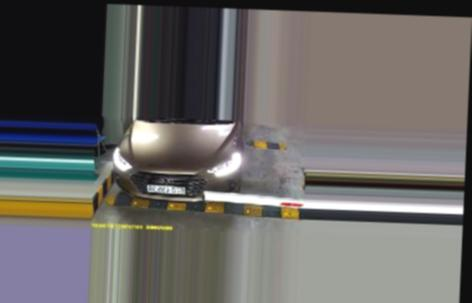License_Plate: (146, 184, 187, 195)
